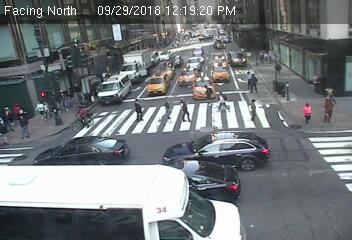car: (1, 165, 242, 240), (162, 132, 269, 169), (33, 134, 130, 168), (165, 160, 241, 202), (116, 49, 150, 81), (95, 75, 130, 102), (193, 71, 216, 103), (144, 74, 170, 96), (213, 59, 231, 83), (157, 61, 176, 79), (178, 69, 196, 86), (230, 49, 246, 66), (185, 57, 201, 71), (212, 53, 227, 66), (171, 52, 182, 67), (145, 51, 158, 63), (212, 37, 226, 48), (193, 45, 205, 57), (157, 48, 170, 59)
